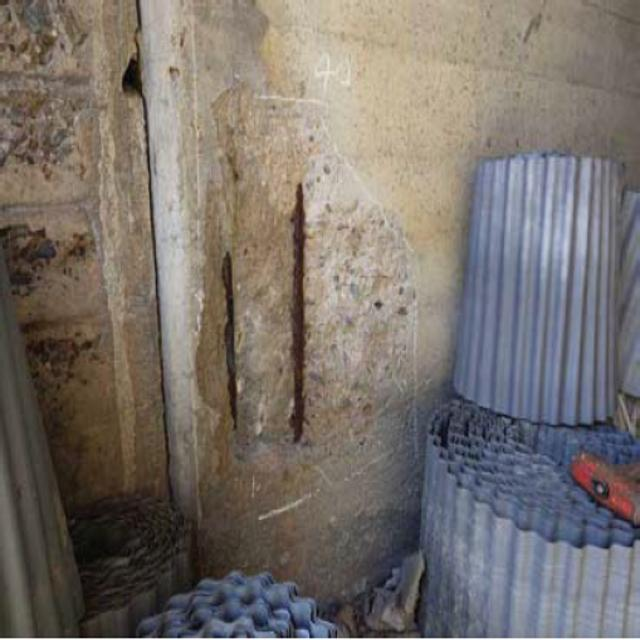spalling: (183, 78, 404, 486), (12, 14, 127, 407)
